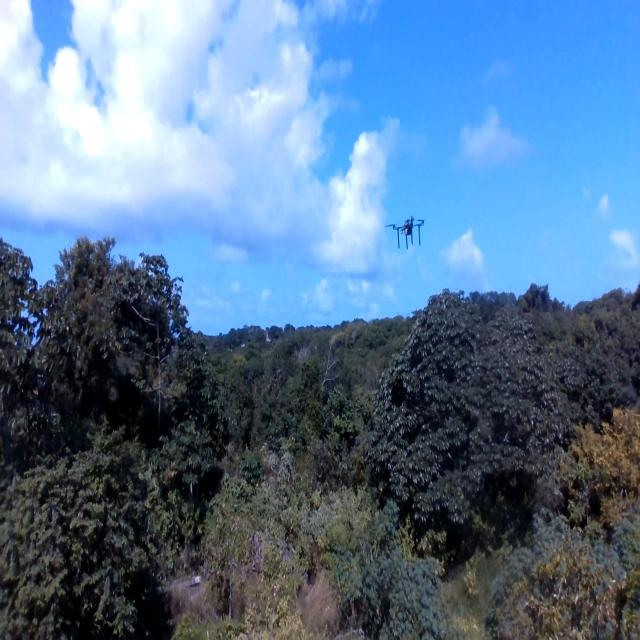-uav-: (383, 203, 428, 260)
